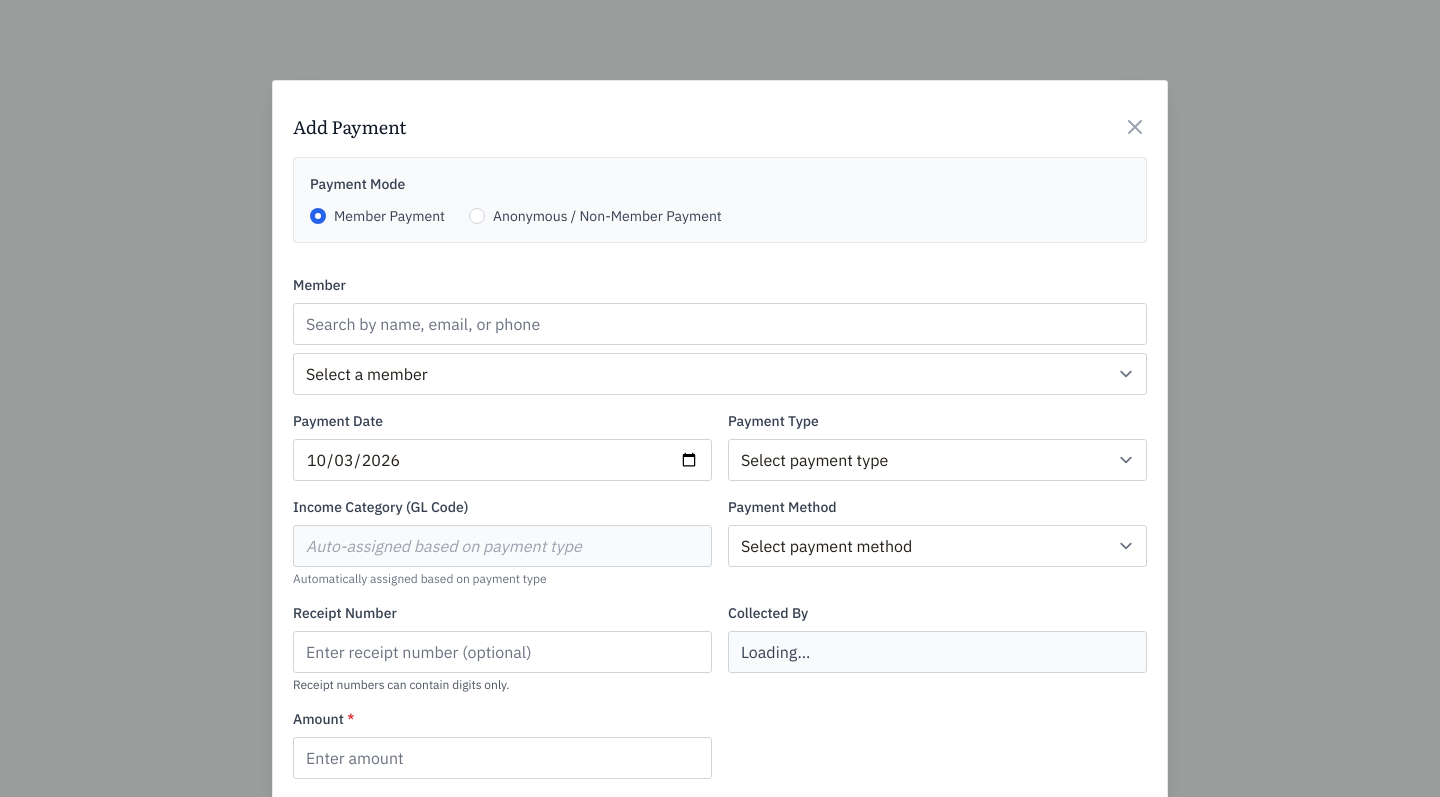
Test: AddPaymentModal — payer check serial › asks for the check serial once the method is check
Select "check" in the dropdown labelled "Payment Method" at x=938, y=546, box [728, 525, 1147, 567]
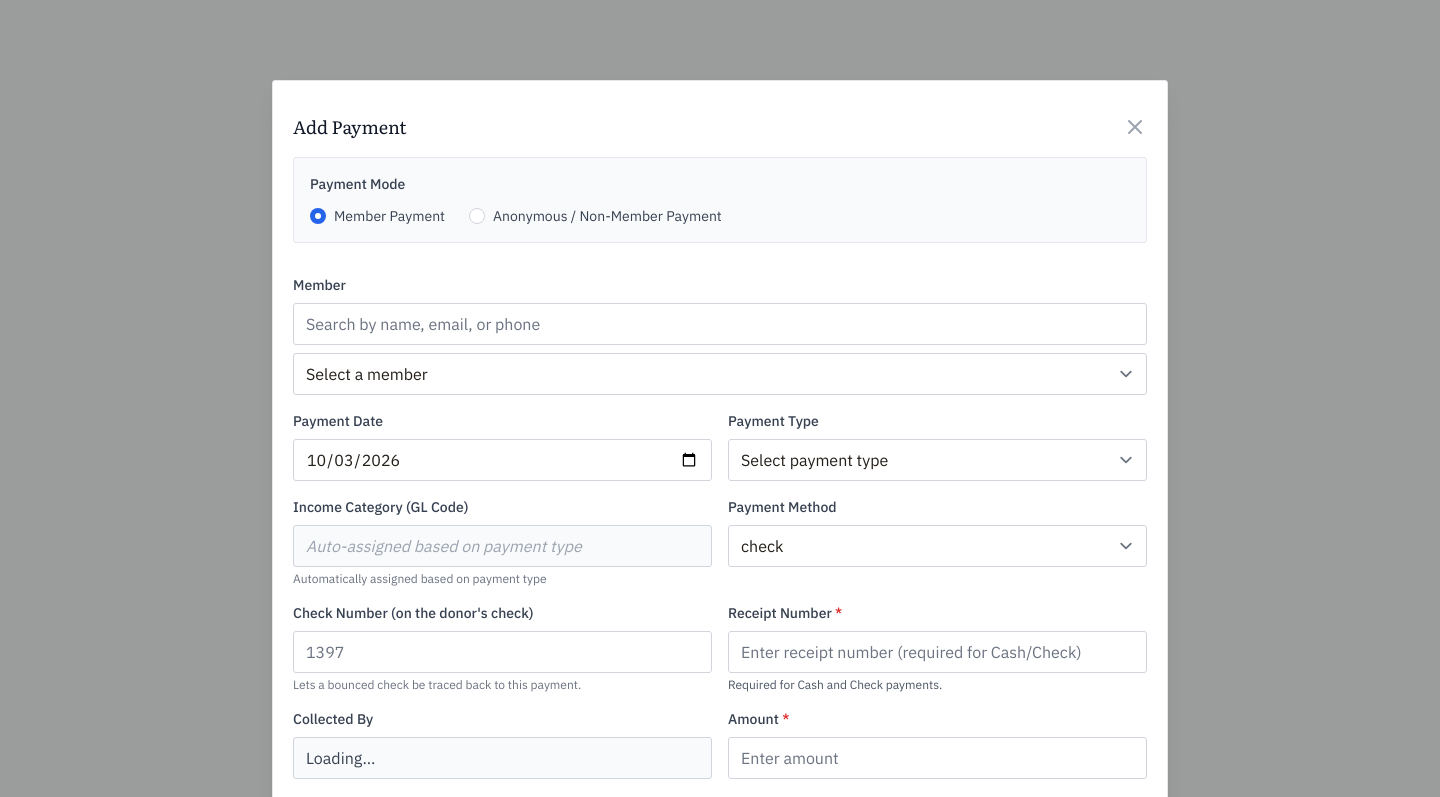
Expected: the field with test id "payer-check-number" is shown, [293, 631, 712, 673]
